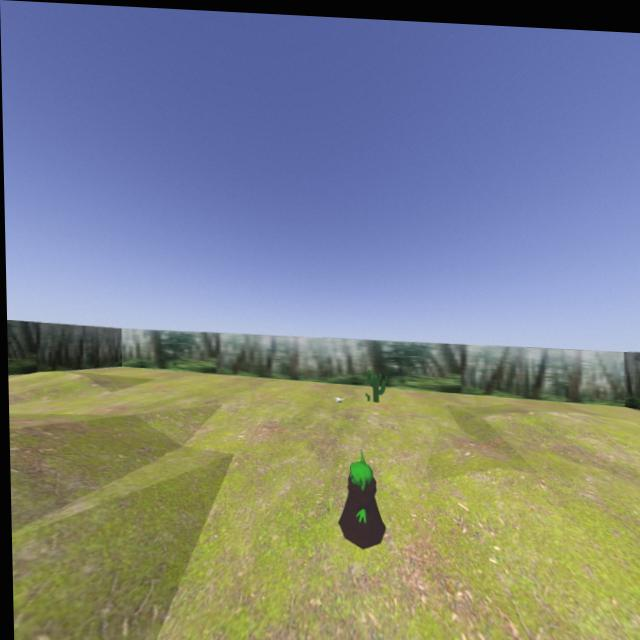yoda: (333, 445, 390, 553)
